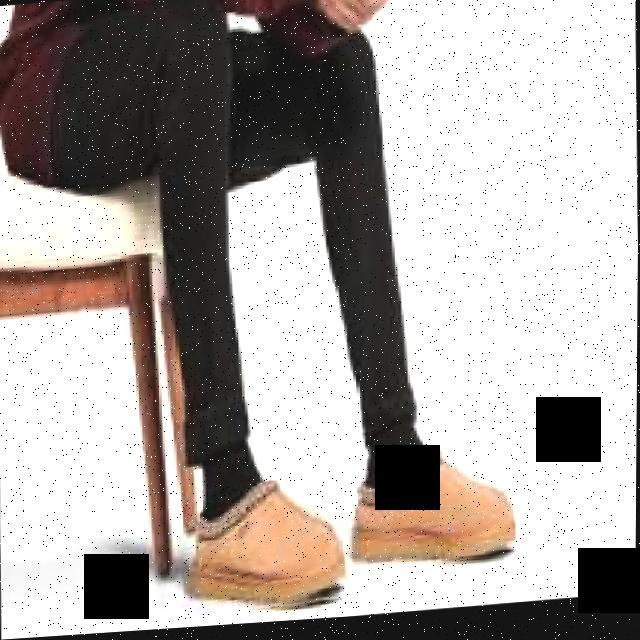shoe: (192, 484, 345, 610), (357, 458, 516, 568)
